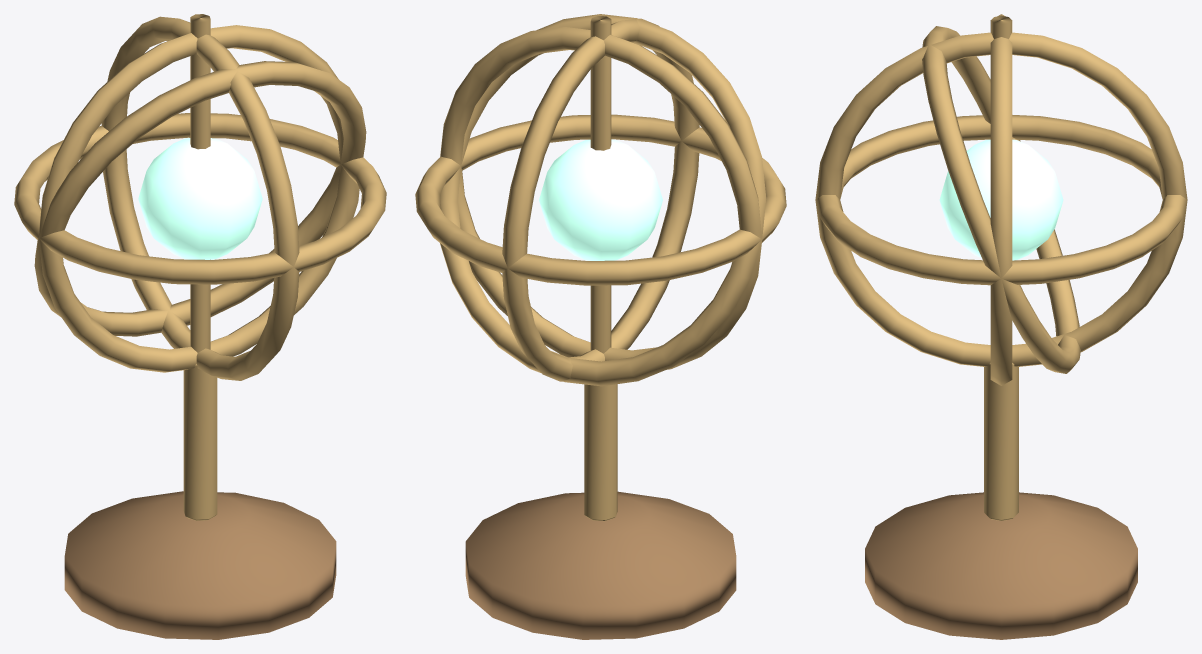
Rendered from Armillary_Sphere.fbx.
The picture shows the model from 3 angles, left to right: view 1: azimuth 30°, elevation 25°; view 2: azimuth 150°, elevation 25°; view 3: azimuth 270°, elevation 25°; orthographic projection.
Visible parts, largest first — view 1: Armillary_Sphere_Mesh; view 2: Armillary_Sphere_Mesh; view 3: Armillary_Sphere_Mesh.
Boxes of the visible parts, <box> form: Armillary_Sphere_Mesh: <box>14,14,386,639</box>; Armillary_Sphere_Mesh: <box>415,14,786,639</box>; Armillary_Sphere_Mesh: <box>815,14,1187,639</box>.
Size of the model in its own units: 0.15 by 0.25 by 0.15.
